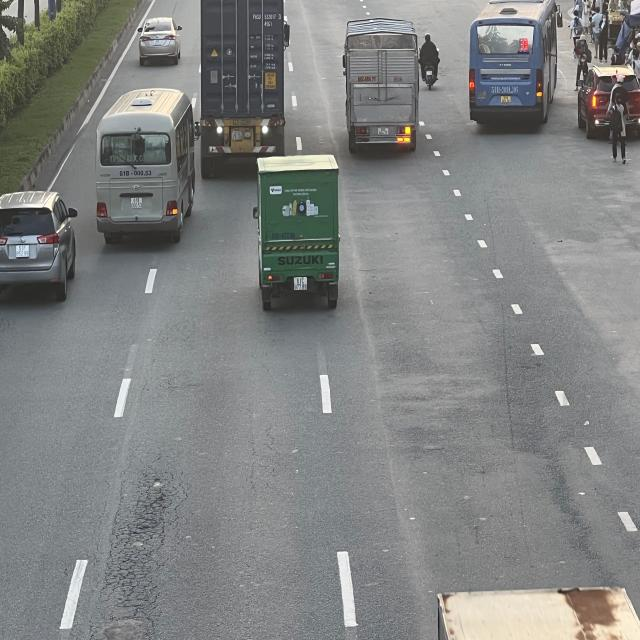car: (0, 189, 77, 297), (137, 16, 182, 64)
coach: (94, 90, 200, 247), (468, 2, 560, 128)
container: (200, 0, 288, 176)
truck: (256, 154, 341, 300), (342, 17, 420, 152)
